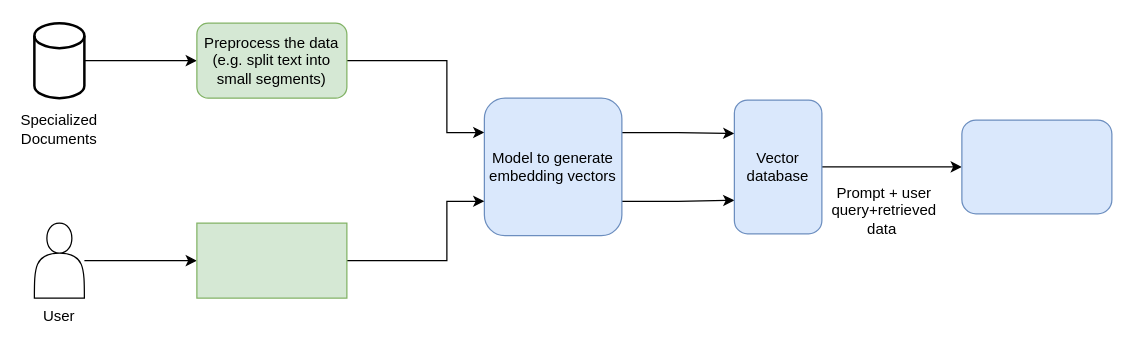
Some shapes in this 1134 by 356 pixel diagram are drawn without their labels. Here are the shapes that lost their labels. From the top down, the box of each, then its label:
(961, 119, 1112, 214): LLM models
(196, 222, 347, 298): Interface that interact with user
